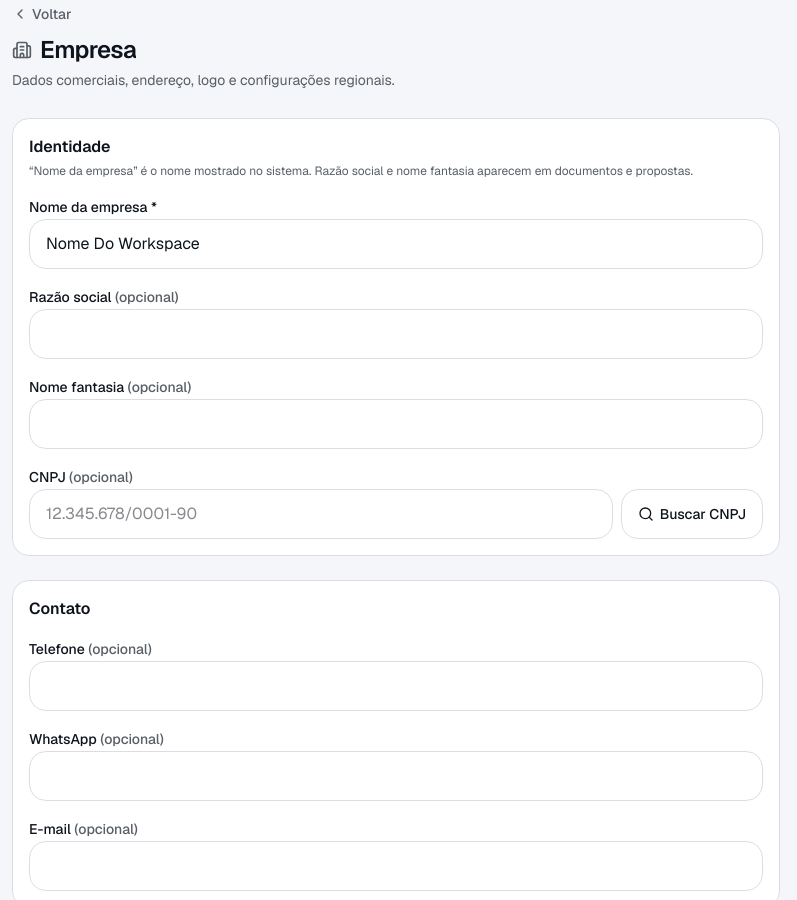
Scenario: CompanyProfilePage CNPJ lookup (FRONTEND-COMPANY-PROFILE-01 §54 CJ1-CJ8) › CJ3: never overwrites the workspace name
expect the field labelled "Nome da empresa *" is shown: met, box 29,219 -> 763,269
In the field labelled "CNPJ (opcional)": (321, 514) 29,489 -> 613,539, type "19131243000197"
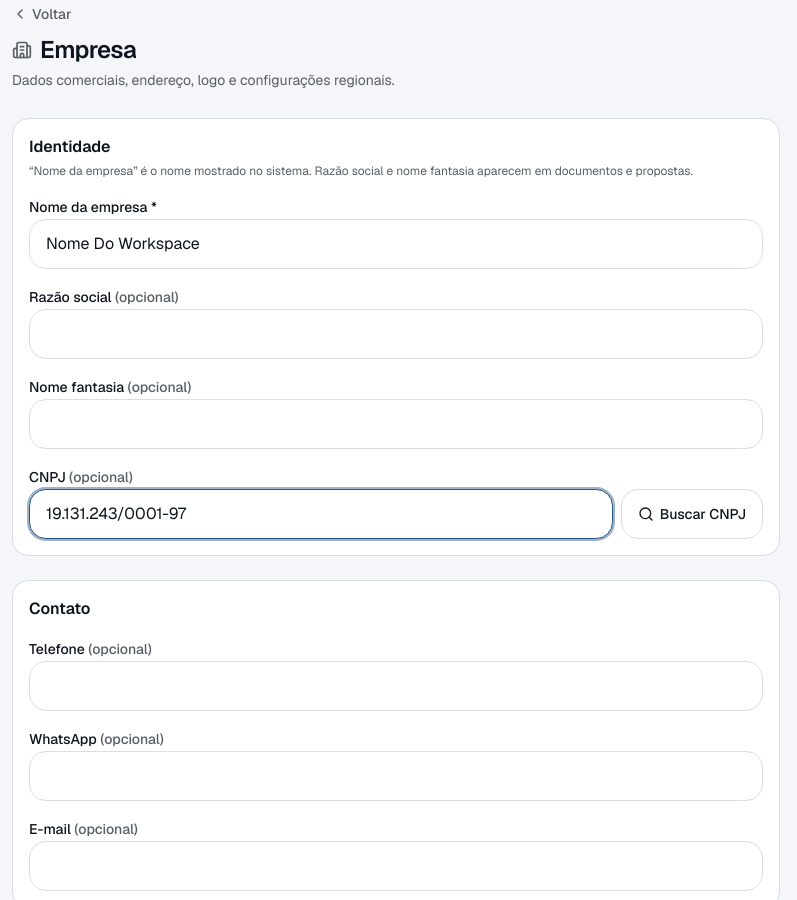
Click the button "Buscar CNPJ": (692, 514) 621,489 -> 763,539
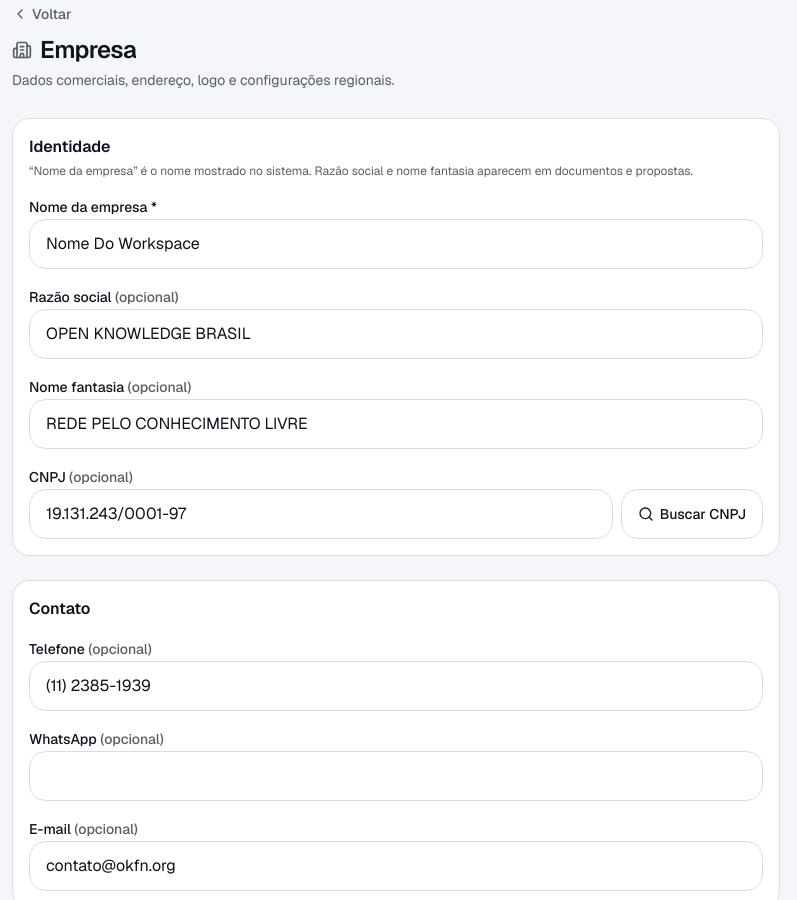
expect the field labelled "Nome da empresa *" holds "Nome Do Workspace": met, box 29,219 -> 763,269
expect the field labelled "Razão social (opcional)" holds "OPEN KNOWLEDGE BRASIL": met, box 29,309 -> 763,359
